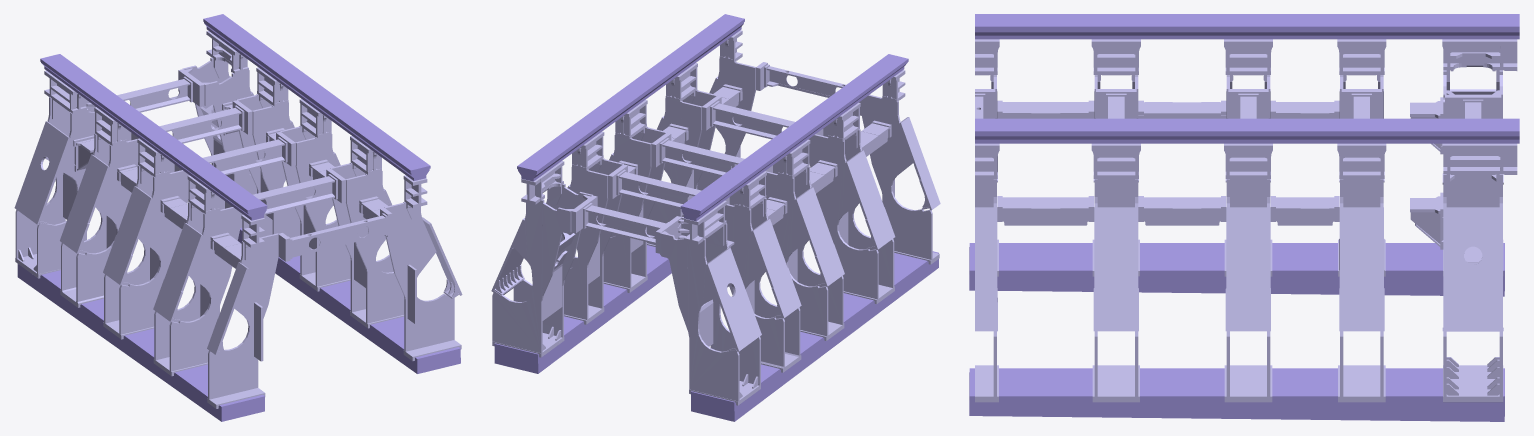
Rendered from Feet-cut1.glb.
The picture shows the model from 3 angles, left to right: view 1: azimuth 30°, elevation 25°; view 2: azimuth 150°, elevation 25°; view 3: azimuth 270°, elevation 25°; orthographic projection. The views are drawn at different scales.
Parts seen in each view (by area): view 1: null; view 2: null; view 3: null.
Boxes of the visible parts, box(x1,y1,x2,y2) form: null: box(14, 14, 462, 421); null: box(491, 14, 940, 421); null: box(969, 14, 1519, 421).
Size of the model in its own units: 9.09 by 7.3 by 13.35.
